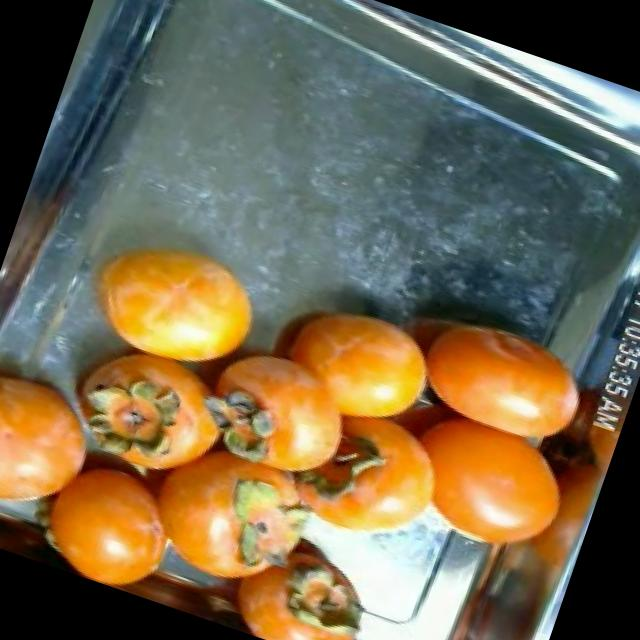Fruit: (52, 204, 292, 402), (384, 283, 614, 472), (0, 337, 128, 531)
